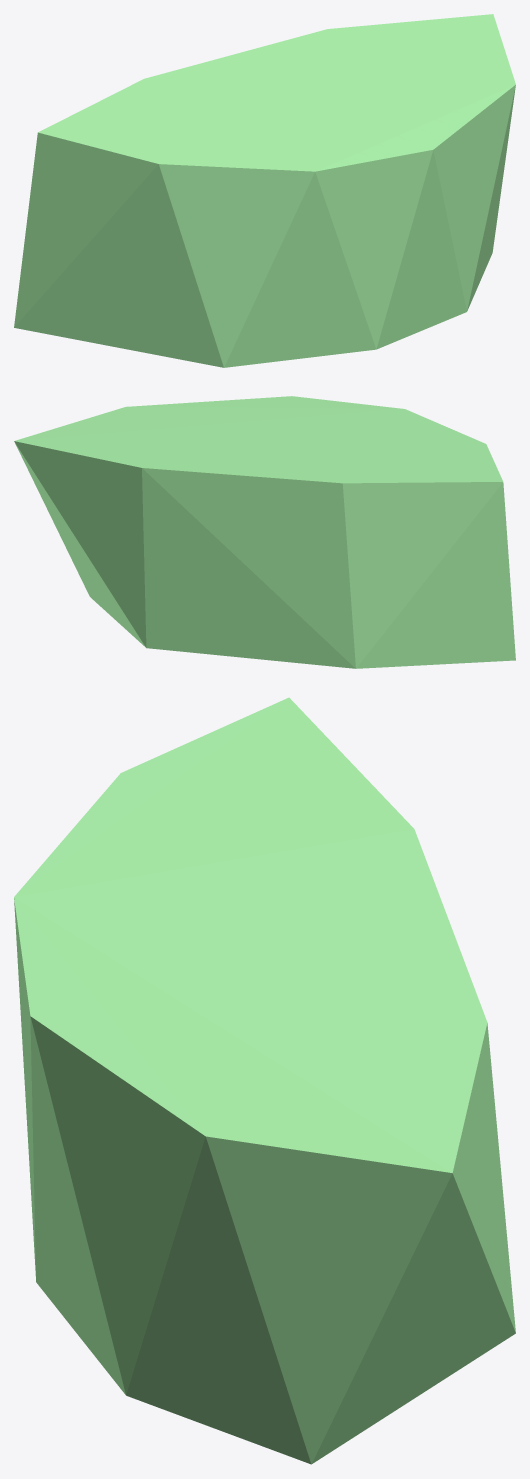
Rendered from UMIRobot_UMIRobot_link_5_convex_coll_73.dae.
The picture shows the model from 3 angles, top to bottom: view 1: azimuth 30°, elevation 25°; view 2: azimuth 150°, elevation 25°; view 3: azimuth 270°, elevation 25°; orthographic projection. The views are drawn at different scales.
Parts seen in each view (by area): view 1: node; view 2: node; view 3: node.
Part boxes in pixels (left/top/right/bottom): node: left=14, top=14, right=515, bottom=367; node: left=14, top=396, right=515, bottom=668; node: left=14, top=697, right=515, bottom=1464.
Size of the model in its own units: 0.0119 by 0.00517 by 0.00597.
